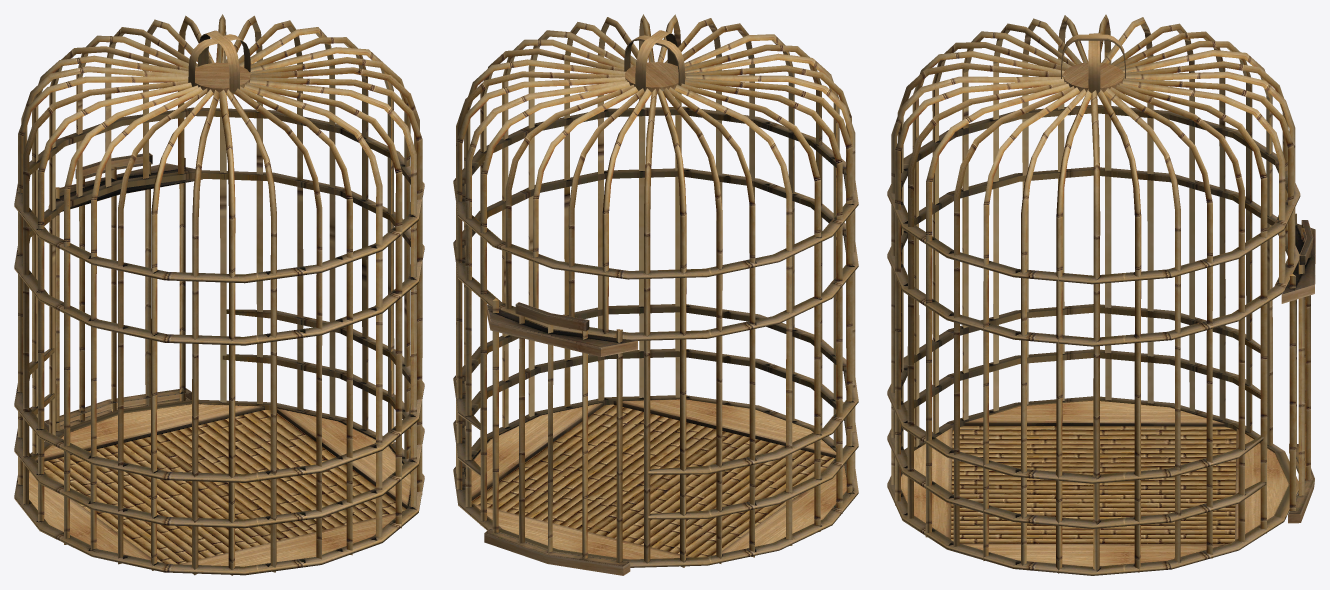
File: Bamboo Cage.dae
3 views of the same model, side by side, from view 1: azimuth 30°, elevation 25°; view 2: azimuth 150°, elevation 25°; view 3: azimuth 270°, elevation 25° (orthographic).
Parts seen in each view (by area): view 1: Mesh_0.016; view 2: Mesh_0.016; view 3: Mesh_0.016.
Part boxes in pixels (left/top/right/bottom): Mesh_0.016: left=14, top=14, right=424, bottom=575; Mesh_0.016: left=453, top=14, right=858, bottom=575; Mesh_0.016: left=887, top=14, right=1315, bottom=575.
Bounding box in the file's own units: 11.98 × 12.43 × 14.51.
1 material, 1 textured.
